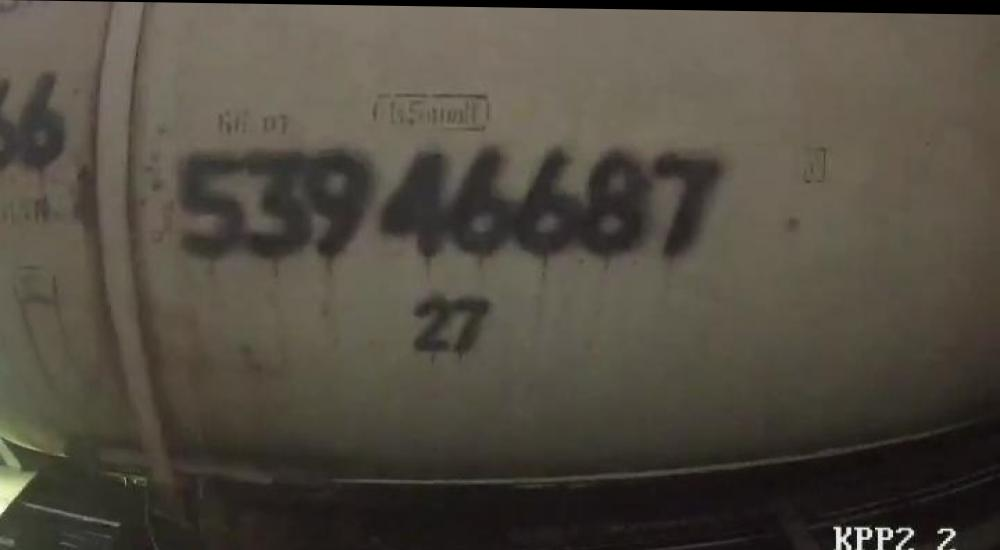Wagon-number: (176, 139, 732, 269)
